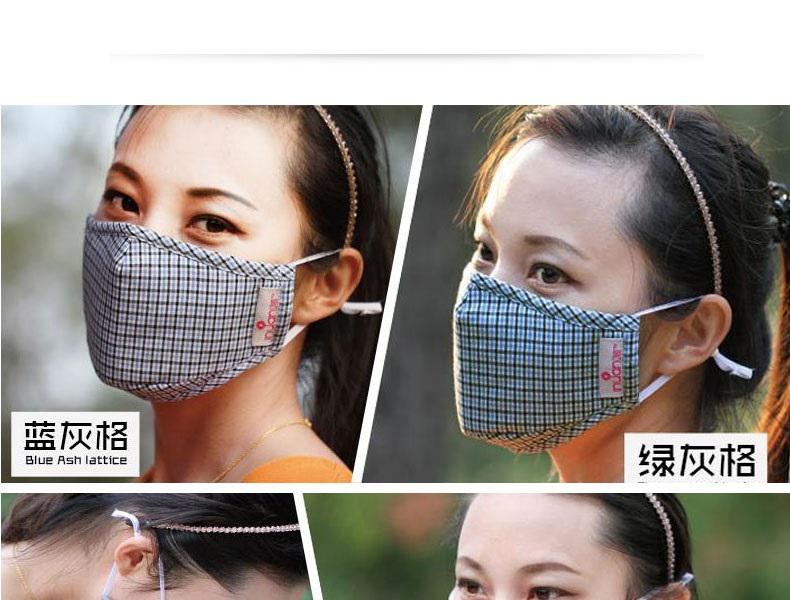OK: (456, 208, 693, 445), (83, 151, 308, 396)
